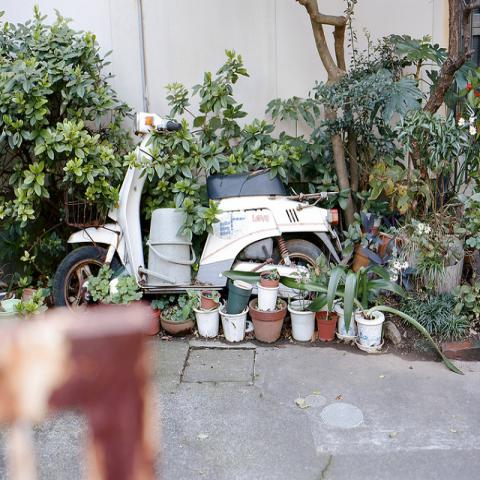motorcycle: (52, 111, 341, 305)
